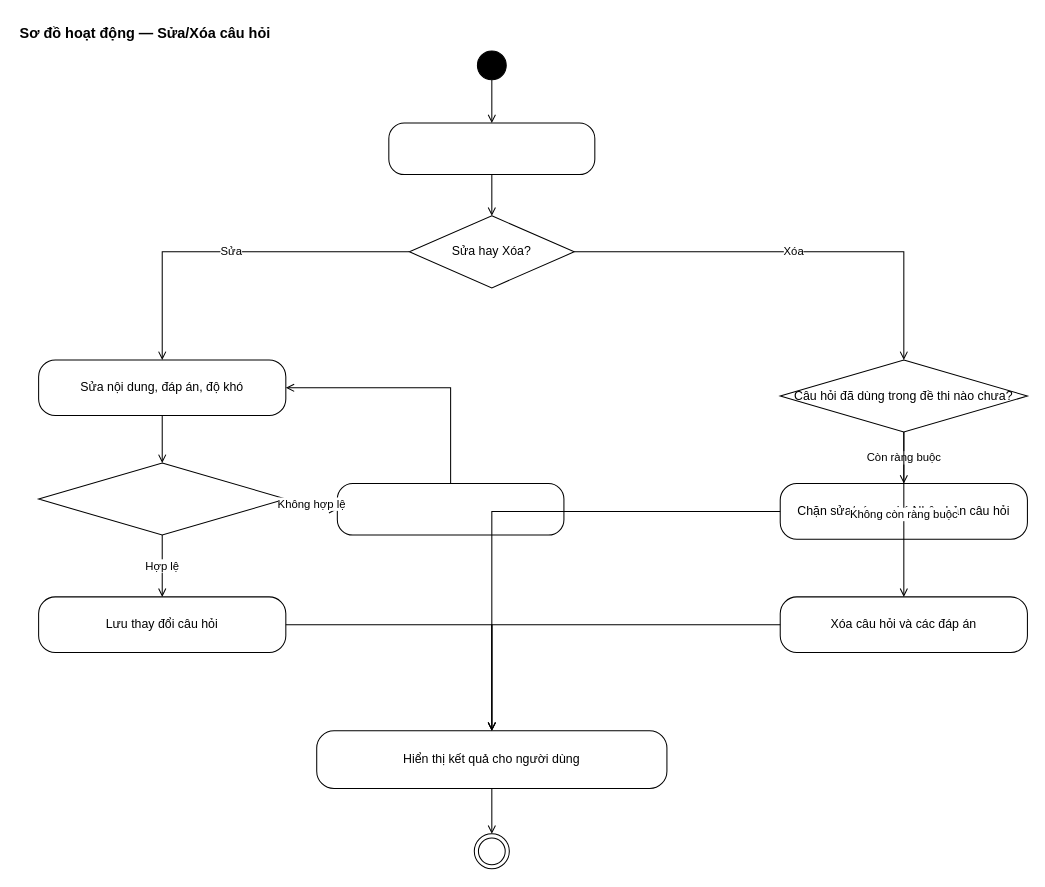
The diagram is 1045 pixels wide and 887 high, and some of its shapes have lost their labels. Each missing label, with the centre of its shape:
"Báo lỗi, yêu cầu nhập lại" belongs at pixel 450 509.
"Chọn câu hỏi cần Sửa hoặc Xóa" belongs at pixel 491 148.
"Đúng 1 đáp án đúng, ≥2 đáp án?" belongs at pixel 162 498.
